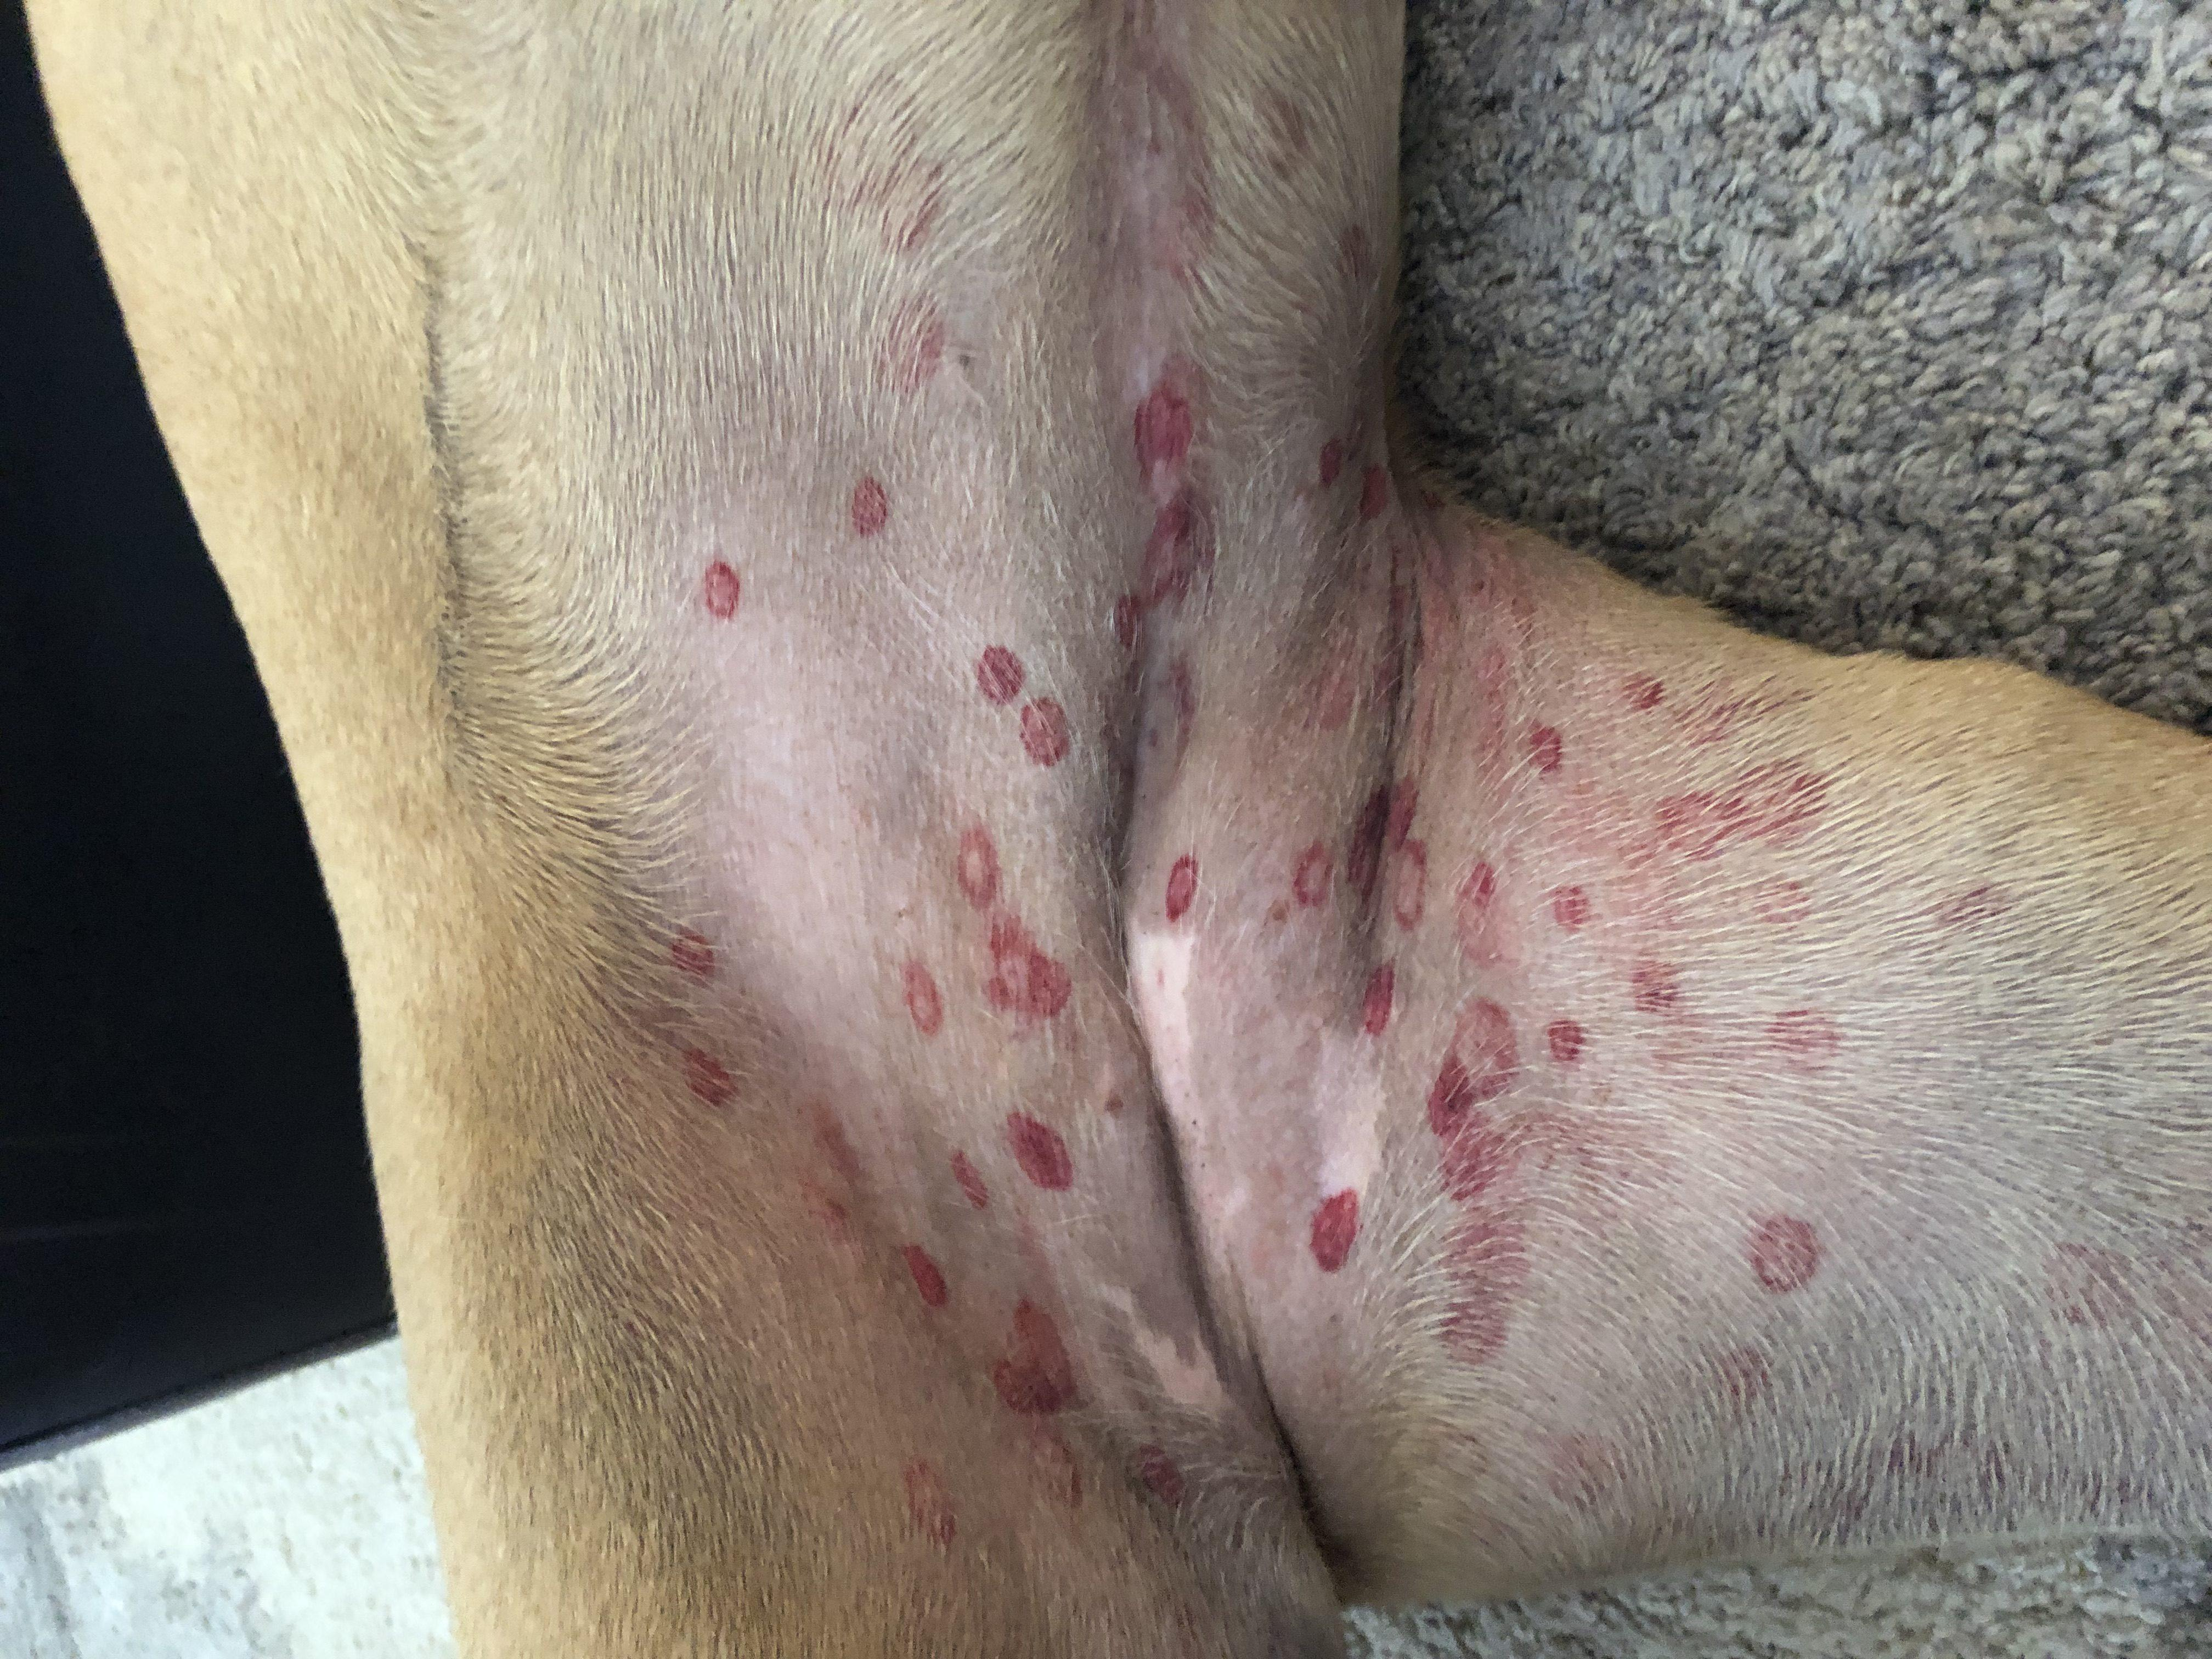Gnat-bites: (1101, 615, 1226, 769), (1082, 505, 1226, 617), (1101, 357, 1211, 488), (981, 941, 1096, 1056), (1406, 1084, 1507, 1213), (1007, 673, 1101, 793), (904, 1223, 988, 1347), (881, 1432, 968, 1549), (1372, 779, 1432, 943), (958, 812, 1038, 927), (799, 1084, 864, 1227), (1001, 1298, 1076, 1419), (686, 535, 763, 650), (651, 897, 735, 1002), (1312, 1155, 1374, 1291), (934, 1138, 1005, 1248), (862, 288, 949, 373), (876, 955, 958, 1046), (1000, 1098, 1068, 1201), (671, 1060, 761, 1124), (1773, 1182, 1818, 1309), (834, 450, 890, 549), (1150, 847, 1221, 924), (1021, 1432, 1092, 1509), (1298, 821, 1345, 936), (970, 620, 1019, 721), (1454, 842, 1508, 932), (1521, 702, 1569, 782), (1458, 1007, 1501, 1094), (1634, 955, 1689, 1021), (1291, 415, 1345, 483), (1557, 875, 1599, 955), (1543, 1002, 1588, 1075), (1353, 983, 1407, 1037), (1782, 1012, 1827, 1072)
